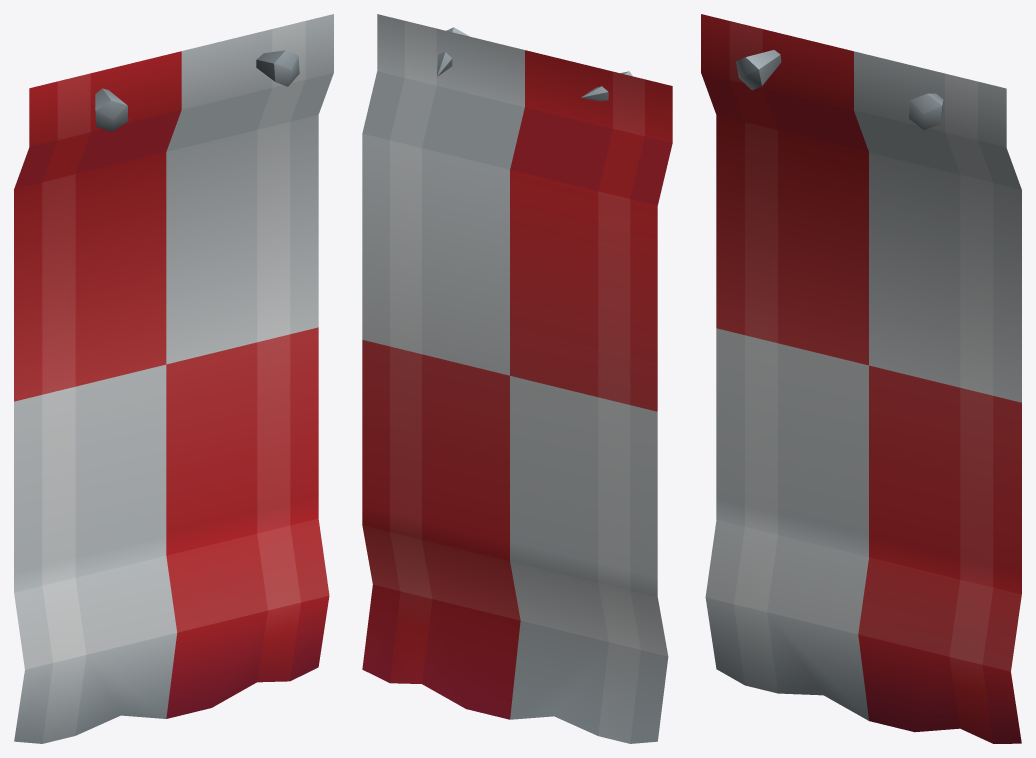
The model's file is banner_patternA_red.glb.
3 renders of one model, left to right at view 1: azimuth 30°, elevation 25°; view 2: azimuth 150°, elevation 25°; view 3: azimuth 330°, elevation 25°, orthographic. The views are drawn at different scales.
Visible parts, largest first — view 1: banner_patternA_red; view 2: banner_patternA_red; view 3: banner_patternA_red.
Boxes of the visible parts, left/top/right/bottom form: banner_patternA_red: left=14, top=14, right=333, bottom=743; banner_patternA_red: left=362, top=14, right=672, bottom=743; banner_patternA_red: left=701, top=14, right=1021, bottom=743.
Bounding box in the file's own units: 1.5 × 3.2 × 0.3117.
Materials: 1 (1 with a texture image).
